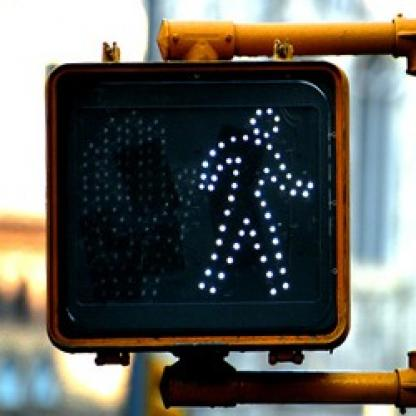Walk: (46, 64, 353, 350)
